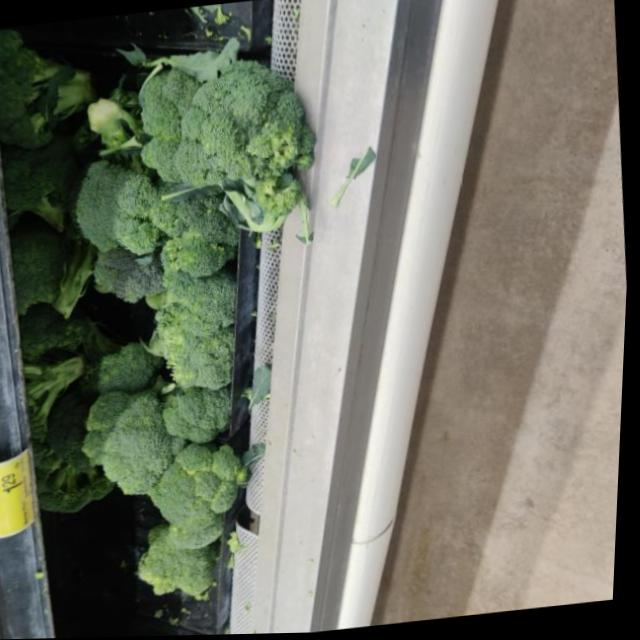Broccoli: (169, 54, 324, 226), (69, 151, 168, 303), (142, 259, 252, 386), (83, 382, 196, 500), (147, 437, 259, 546), (136, 519, 225, 602)
